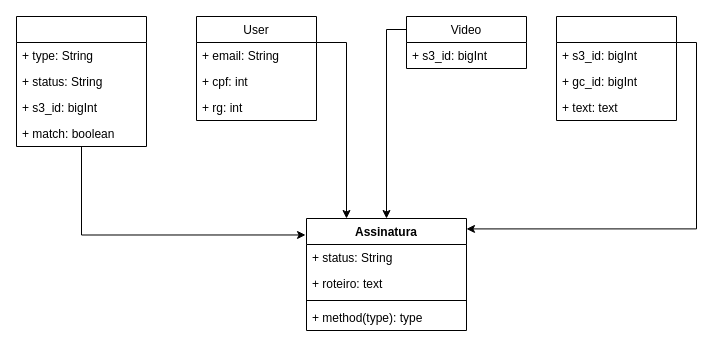
This 713x347 diagram has some shape labels left out. The box of each missing label's shape, as (x1, y1, x2, y2) in pixels:
Audio: (556, 16, 676, 120)
Imagem: (16, 16, 146, 146)
